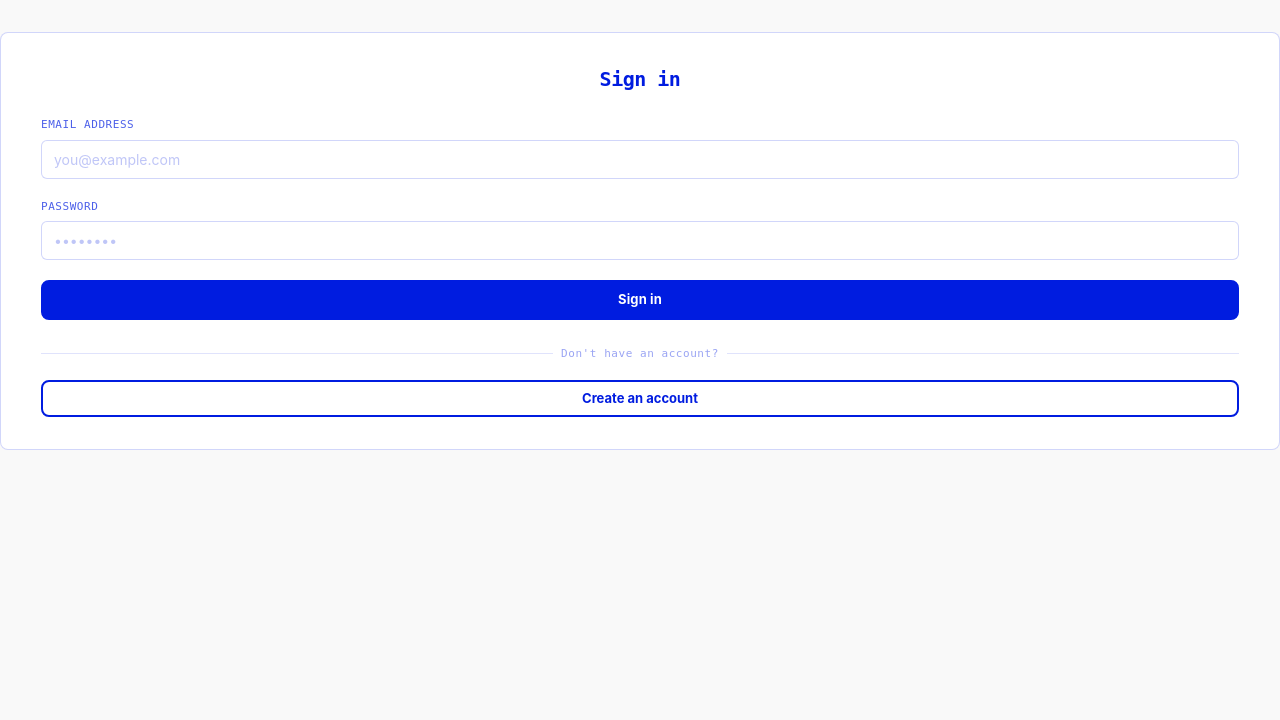
Test case: Authentication Flow Integration › Error Handling › handles login failure gracefully
Type "wrong@example.com" into the field labelled "Email address" at (640, 159), box [41, 140, 1239, 178]
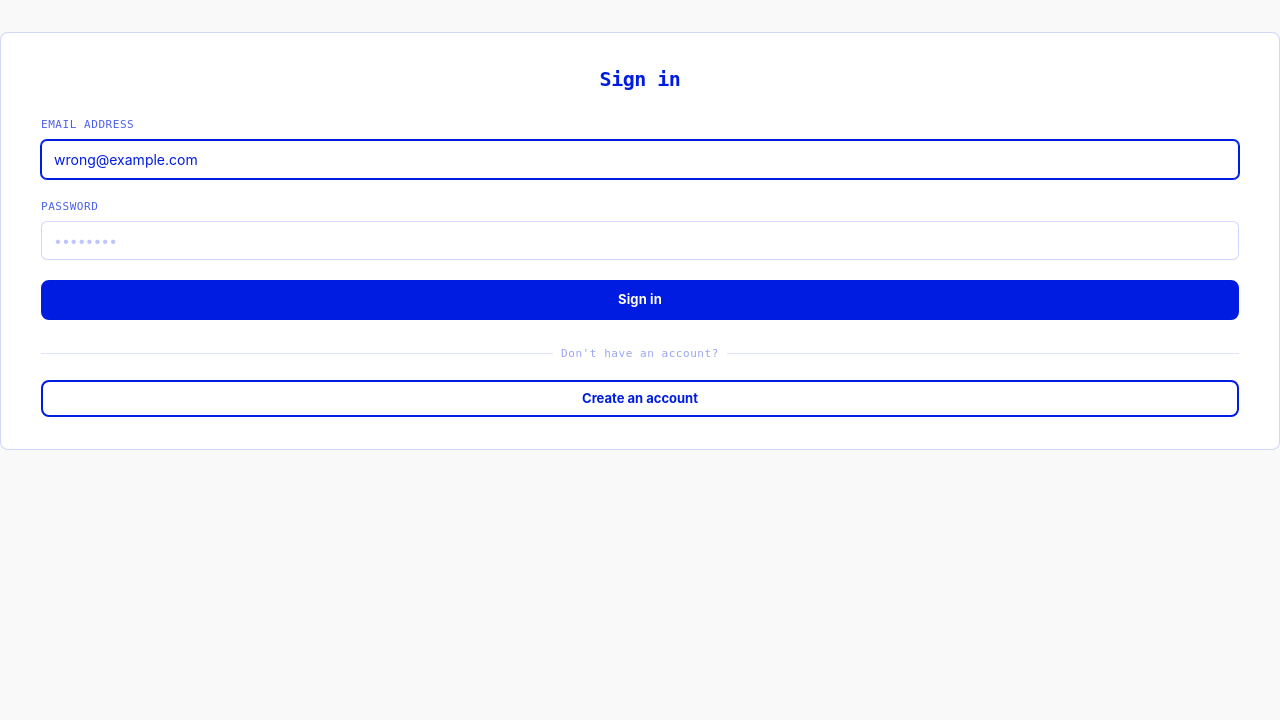
Type "WrongPass123" into the password field labelled "Password" at (640, 240), box [41, 221, 1239, 260]
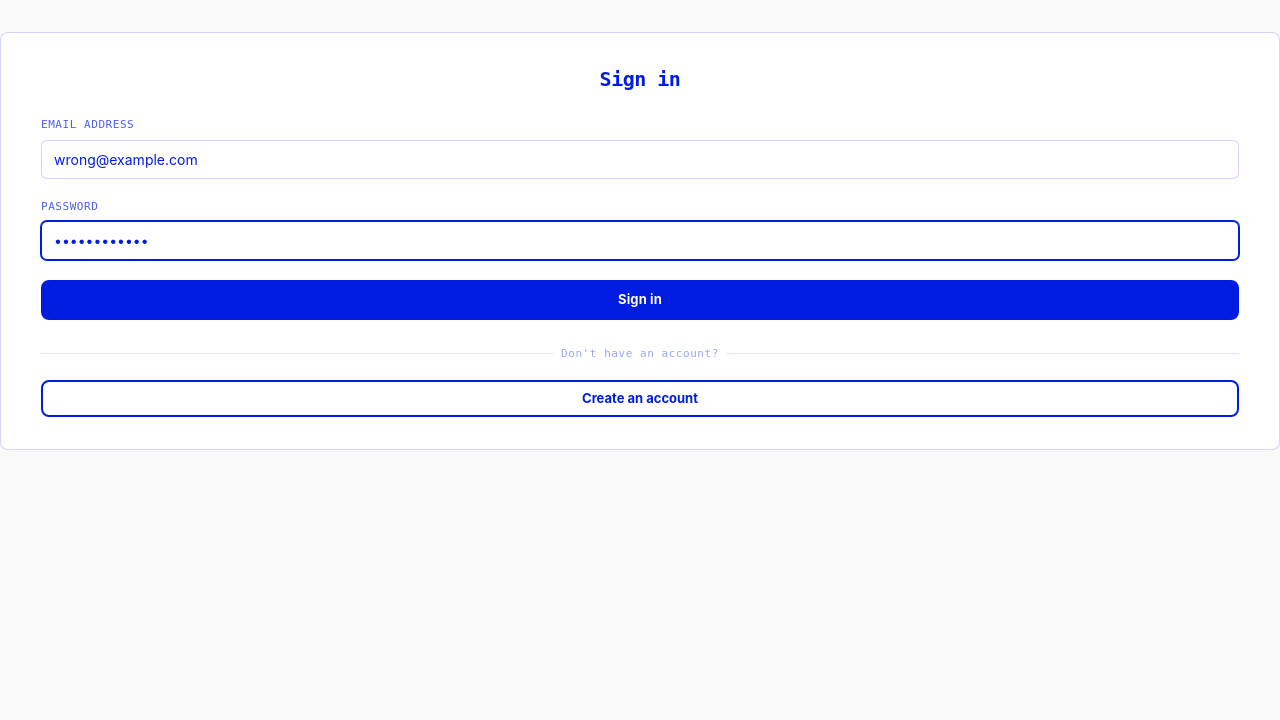
Click the button "Sign in" at (640, 300), box [41, 280, 1239, 320]
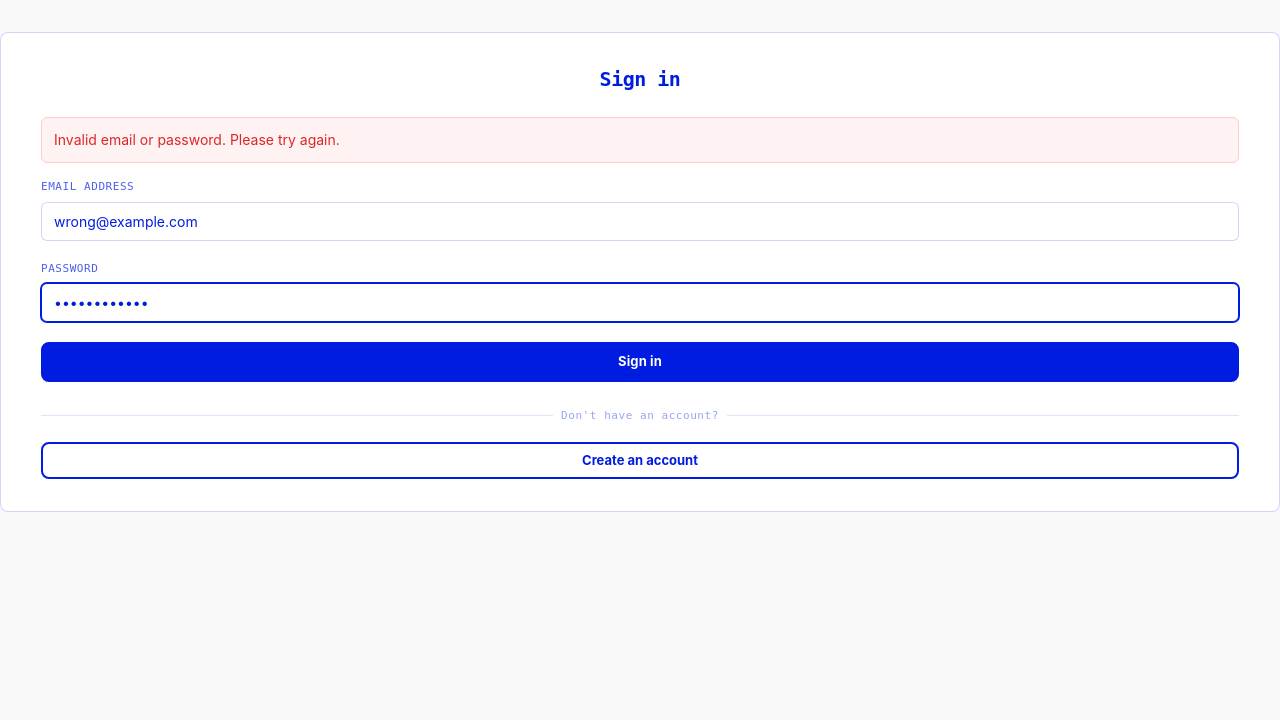
Check: the text "Invalid email or password. Please try again." is shown, box [54, 131, 340, 148]
